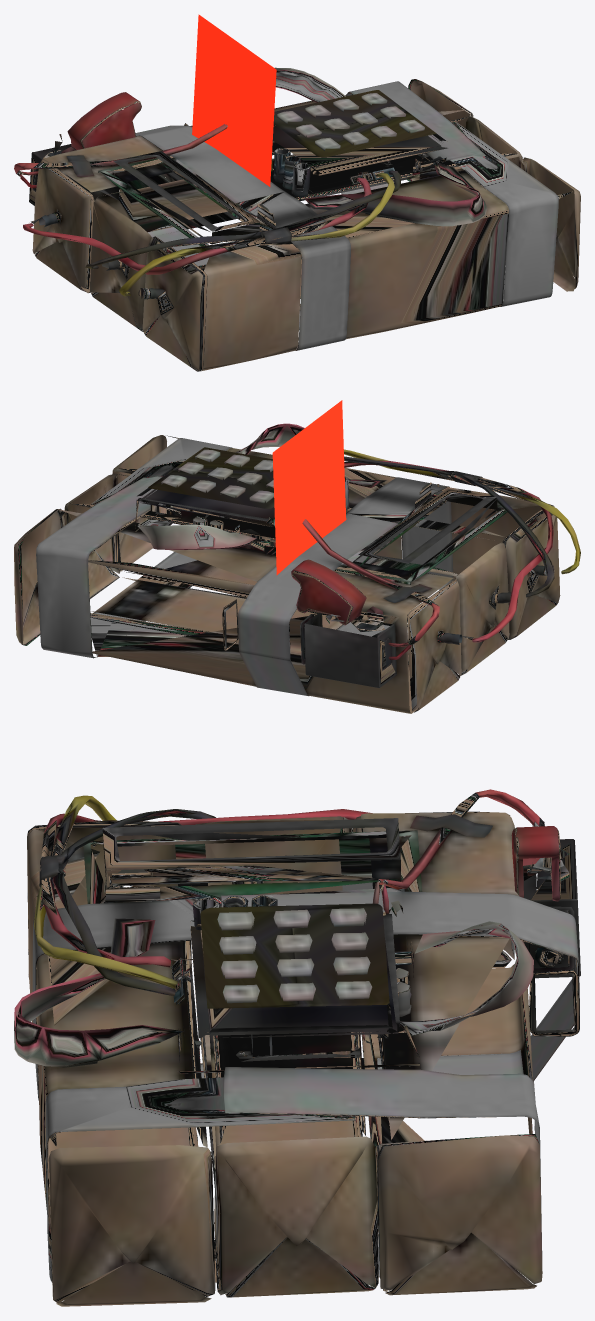
3 views of the same model, one above another, from view 1: azimuth 30°, elevation 25°; view 2: azimuth 150°, elevation 25°; view 3: azimuth 270°, elevation 25° (orthographic). The views are drawn at different scales.
Visible parts, largest first — view 1: w_c4; view 2: w_c4; view 3: w_c4.
Part boxes in pixels (x1,y1,x2,y2): w_c4: (14,14,580,371); w_c4: (14,400,580,713); w_c4: (14,789,580,1306).
Bounding box in the file's own units: 0.3322 × 0.1687 × 0.2289.
Materials: 2 (1 with a texture image).
